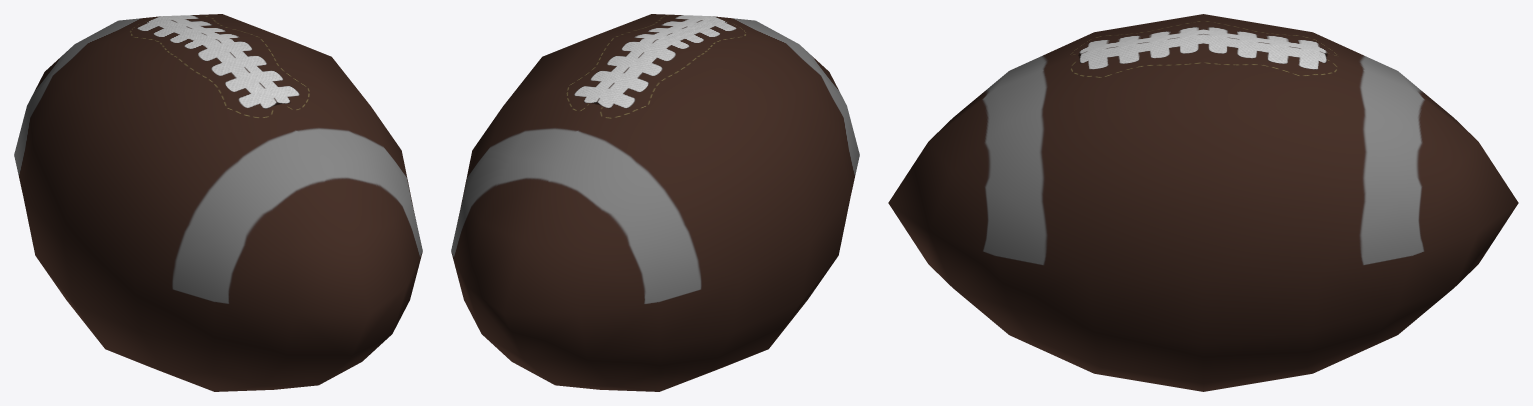
File: Ball_Oval_01.FBX
The picture shows the model from 3 angles, left to right: view 1: azimuth 30°, elevation 25°; view 2: azimuth 150°, elevation 25°; view 3: azimuth 270°, elevation 25°; orthographic projection. The views are drawn at different scales.
Parts seen in each view (by area): view 1: Ball_Football; view 2: Ball_Football; view 3: Ball_Football.
Boxes of the visible parts, x1=… form: Ball_Football: x1=14, y1=14, x2=422, y2=391; Ball_Football: x1=451, y1=14, x2=859, y2=391; Ball_Football: x1=888, y1=14, x2=1518, y2=391.
Bounding box in the file's own units: 17.98 × 30.39 × 17.98.
1 material, 1 textured.
